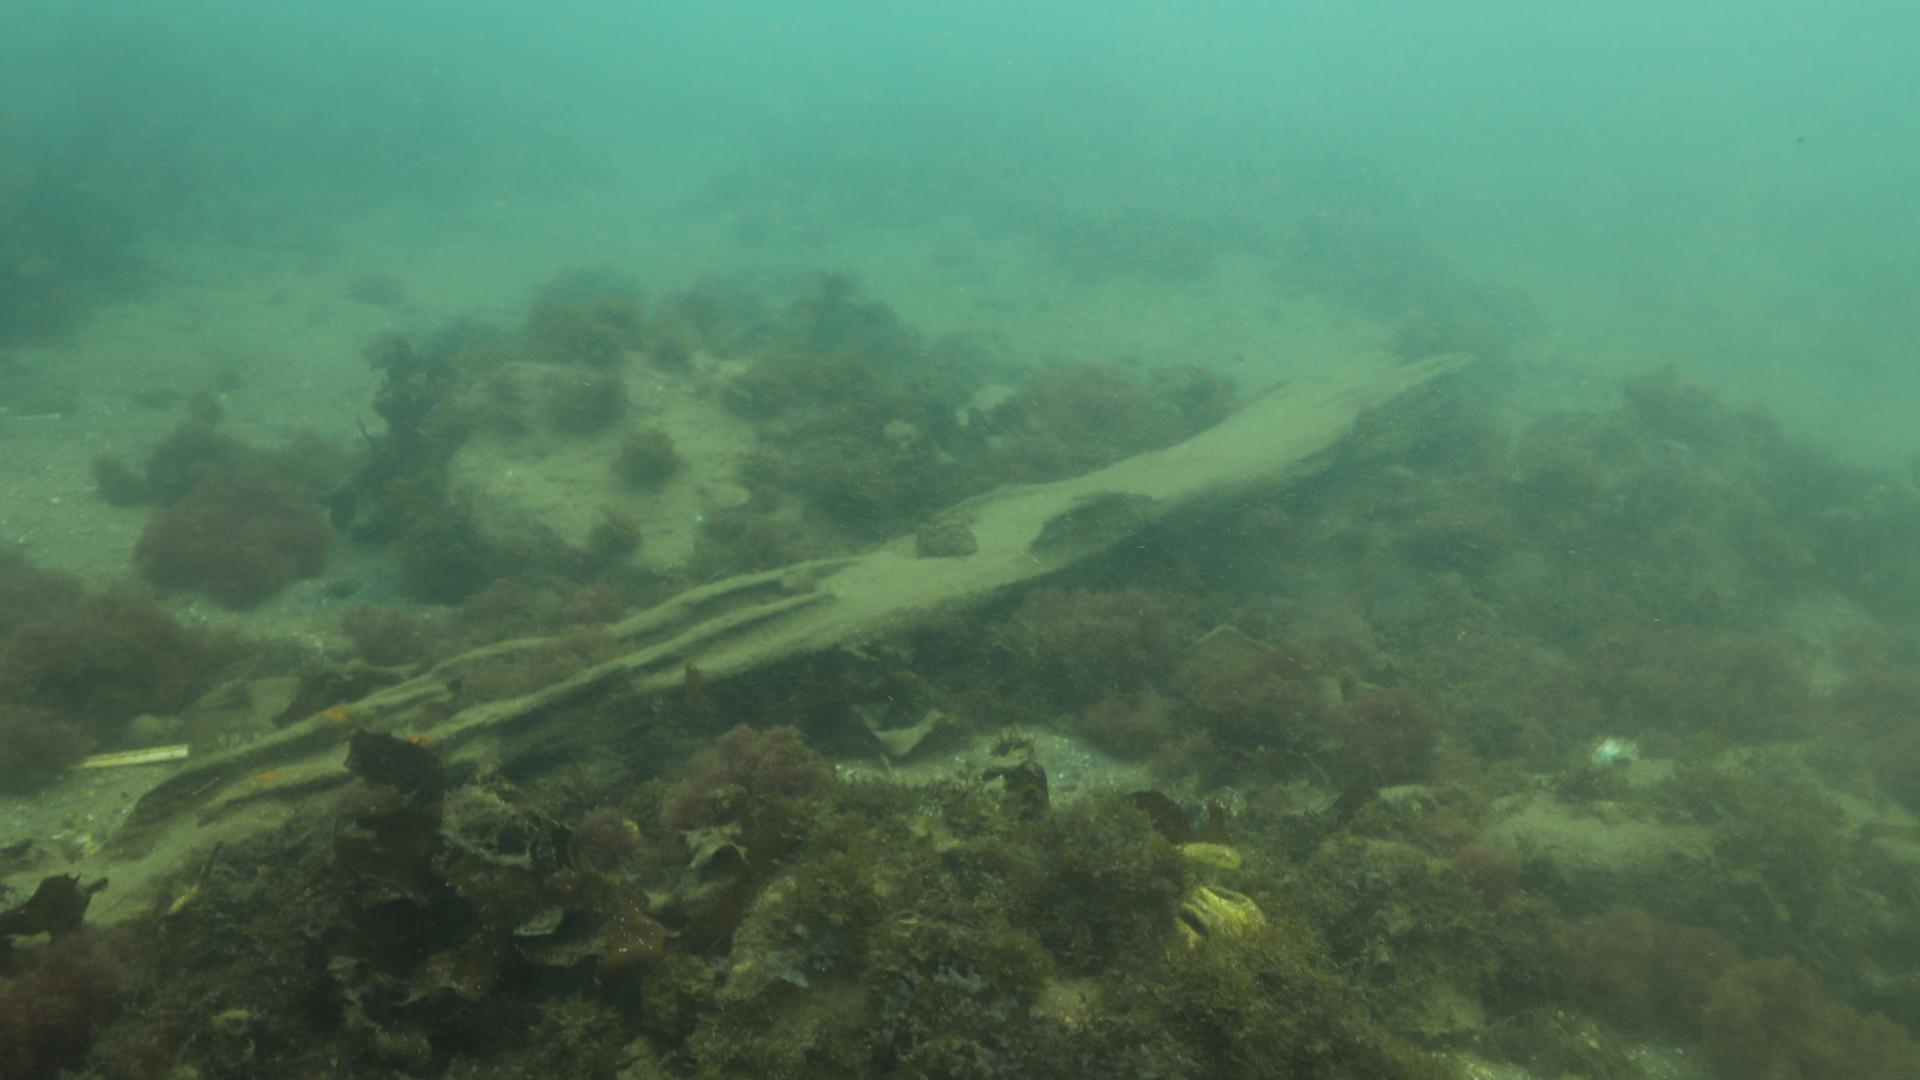wood: (0, 348, 1481, 975)
